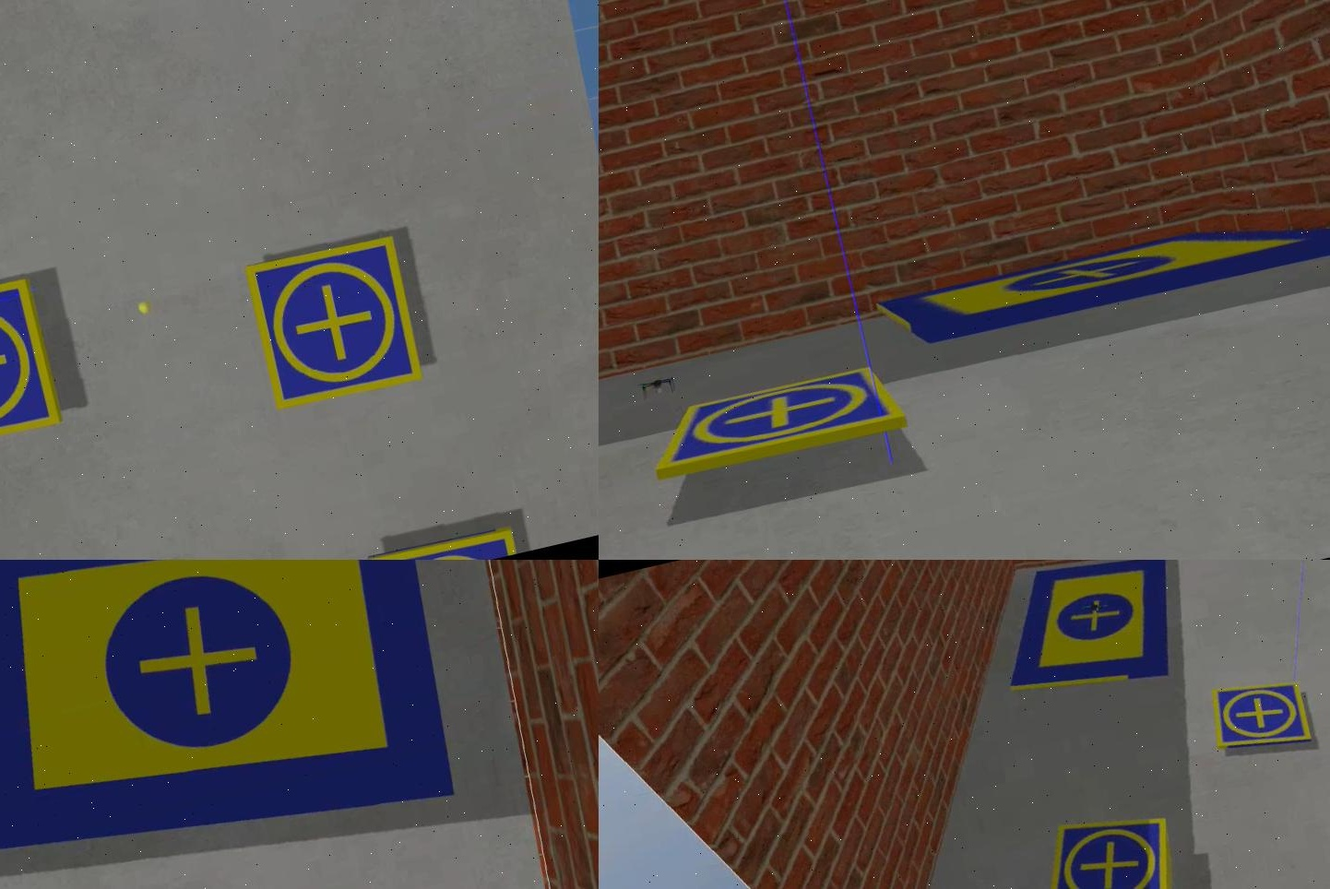large_base: (0, 561, 475, 889), (873, 186, 1328, 358), (986, 561, 1182, 705)
small_base: (243, 231, 423, 415), (642, 360, 906, 484), (1023, 801, 1188, 889), (0, 275, 65, 462), (1202, 670, 1316, 765), (362, 520, 520, 561)
